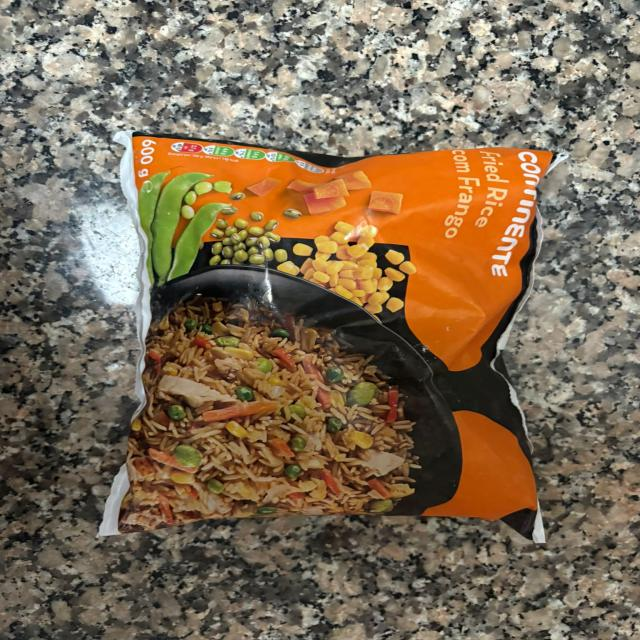good_package: (99, 128, 567, 550)
